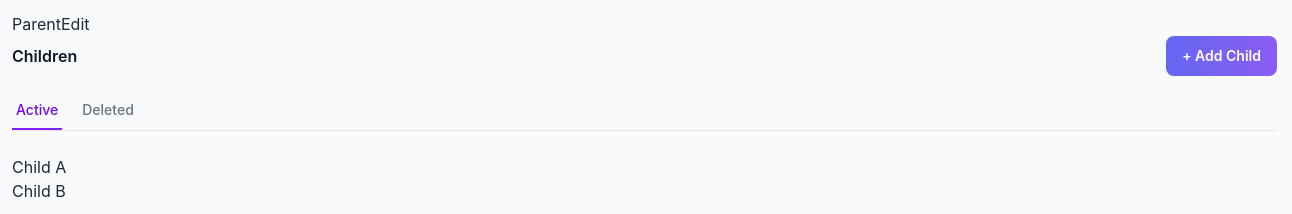
Test: HierarchicalManage › hides create button in readonly deleted tab
The image size is (1292, 214).
Expected: the button "+ Add Child" is shown, [1166, 36, 1277, 76]
// Switch to deleted tab
Click the tab "Deleted".
click(108, 111)  # box [78, 92, 138, 130]
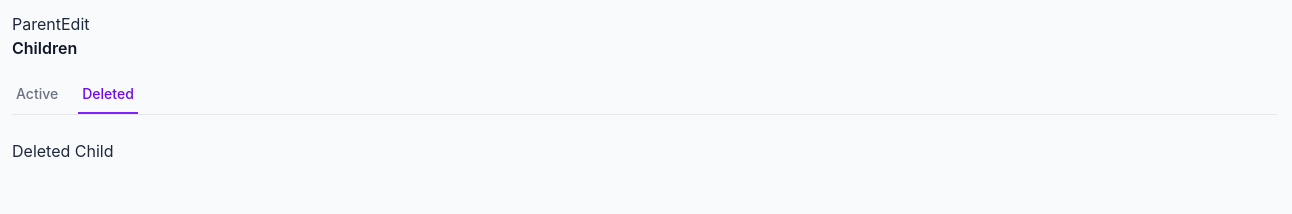
Now the button "+ Add Child" is gone
